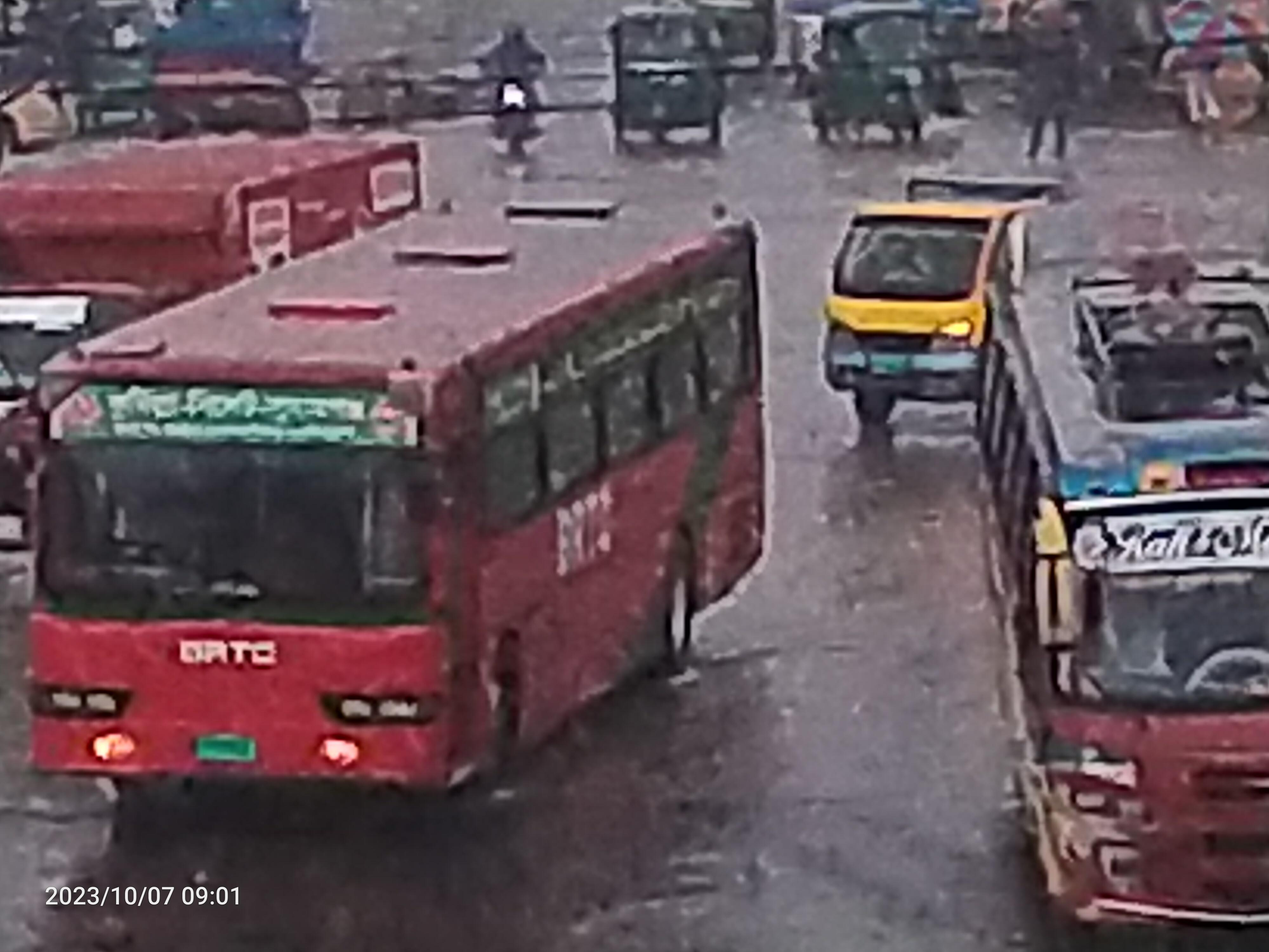Bike: (453, 0, 574, 178)
Bus: (9, 184, 786, 860), (958, 249, 1269, 935), (0, 102, 464, 505)
Truck: (798, 142, 1124, 462)
